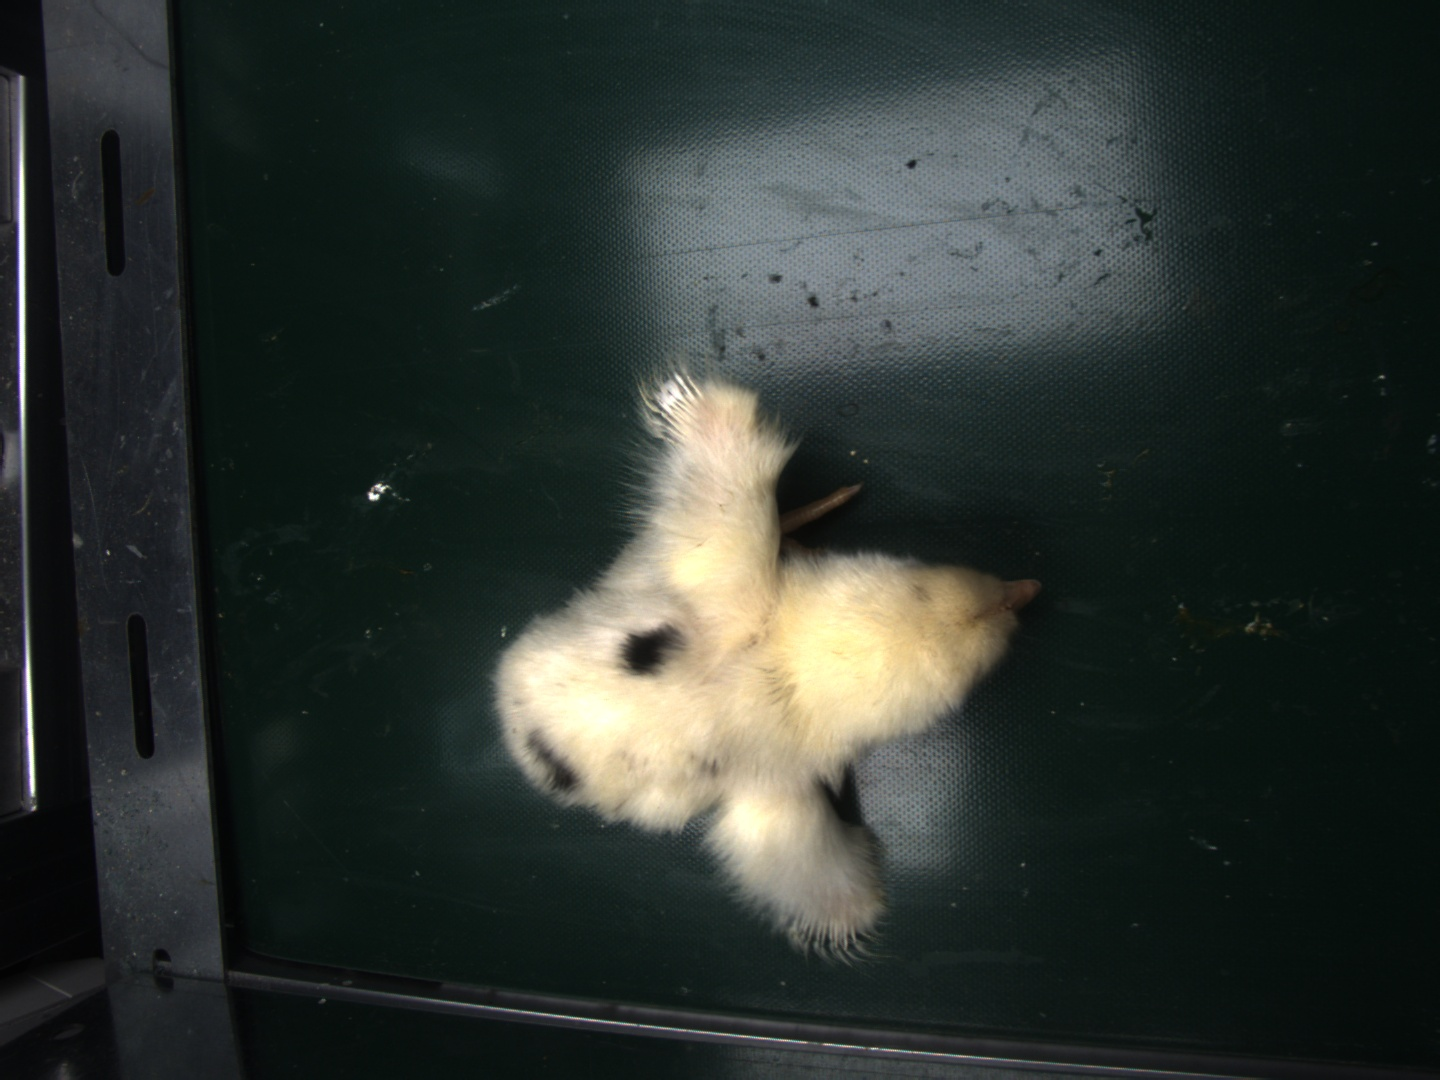male: (790, 908, 869, 955)
